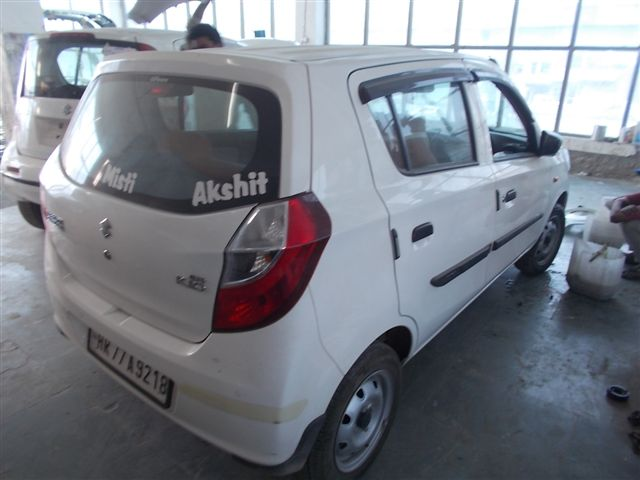Dent: (550, 311, 600, 389)
